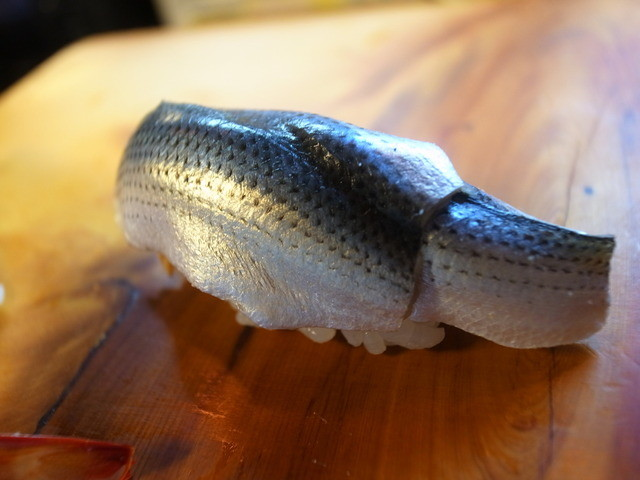spotted-shad: (113, 95, 623, 368)
